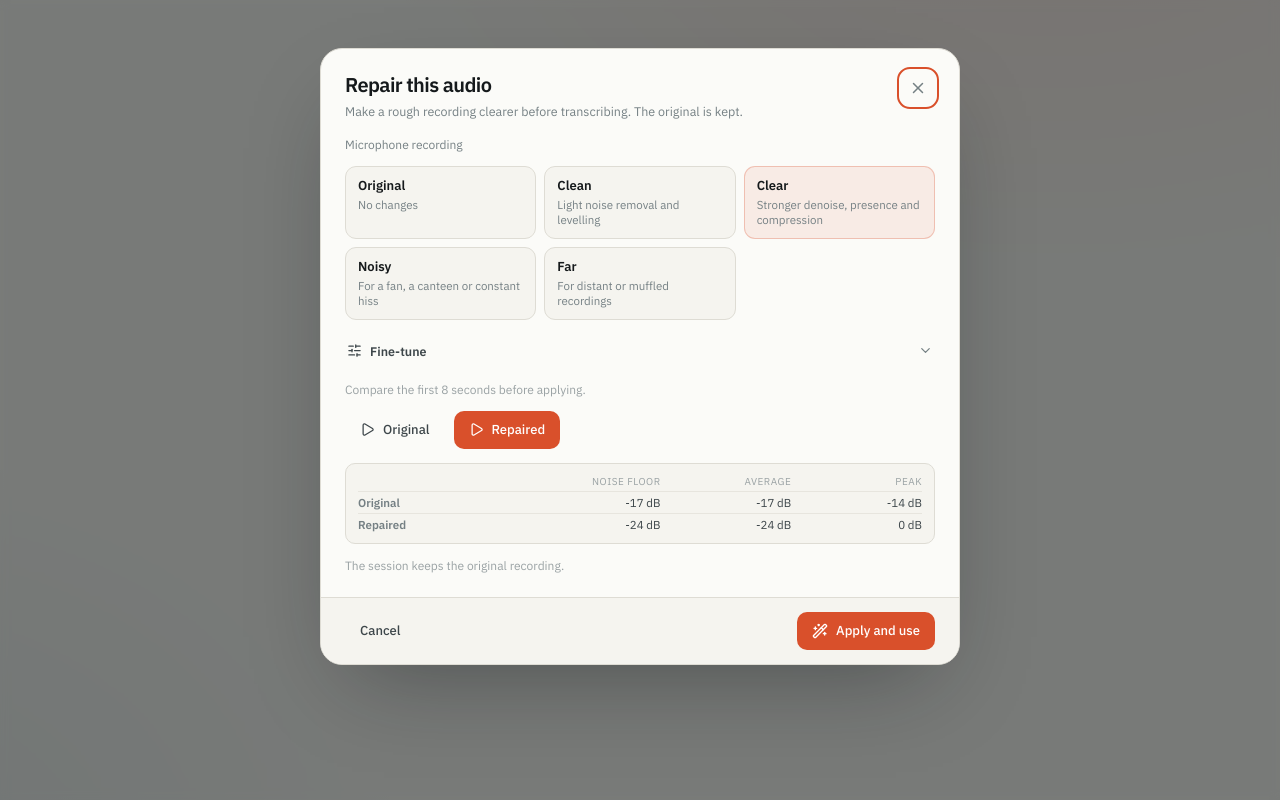
Scenario: AudioRepairDialog › keeps fine tuning collapsed until asked
Check: the radio button labelled "Clear Stronger denoise, presence and compression" is shown, box [744,166,935,239]
Check: the field labelled "Mains hum" is not shown
Click the button "Fine-tune": (398, 351) [345,334,935,368]
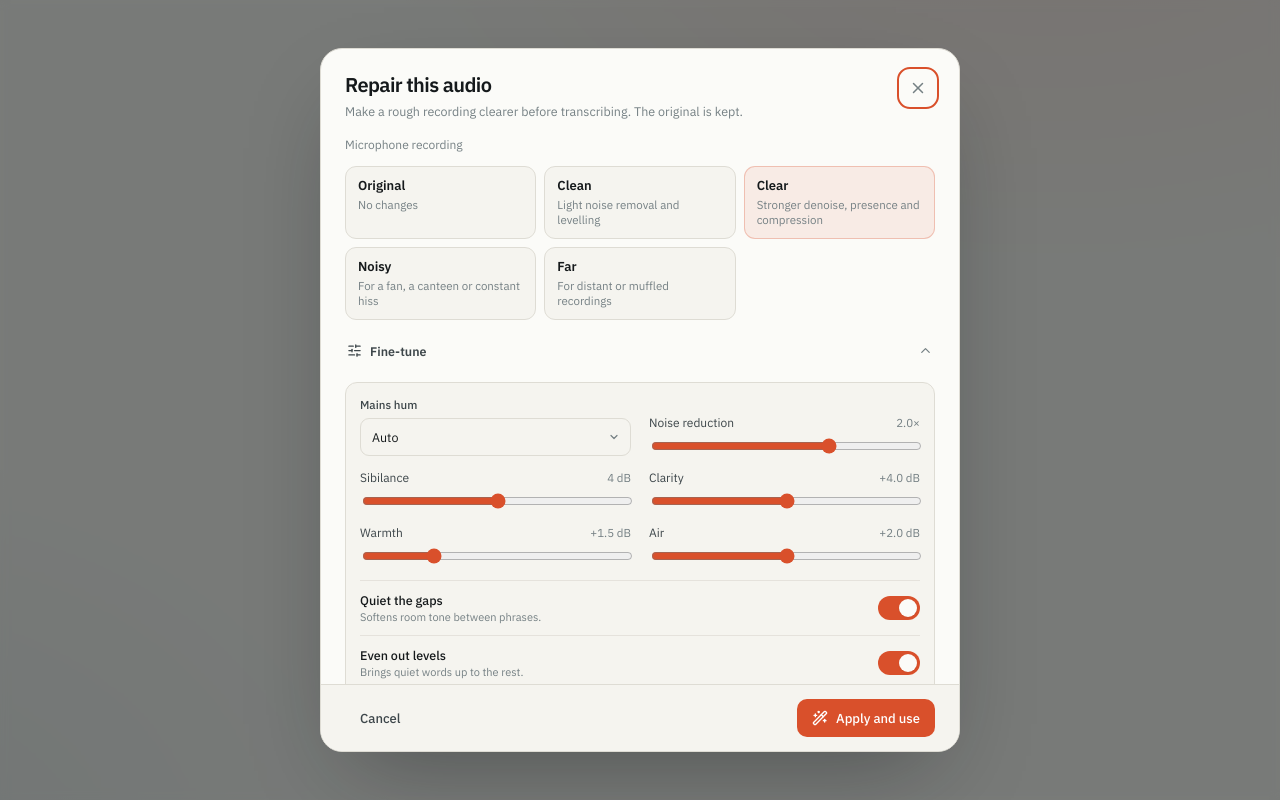
Check: the dropdown labelled "Mains hum" is shown, box [360,418,631,456]
Check: the slider named "Noise reduction" is shown, box [651,438,922,454]
Check: the slider named "Sibilance" is shown, box [362,493,633,509]
